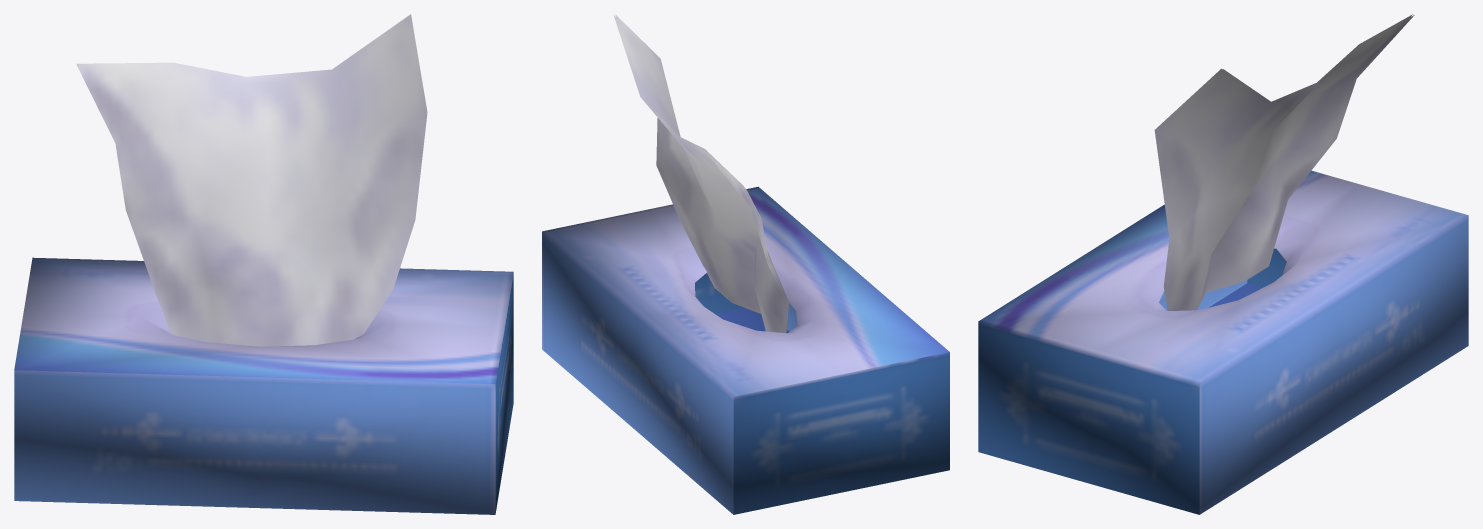
The model's file is XiuXiShi_01_chouzhi_01.FBX.
3 renders of one model, left to right at view 1: azimuth 30°, elevation 25°; view 2: azimuth 150°, elevation 25°; view 3: azimuth 270°, elevation 25°, orthographic. The views are drawn at different scales.
Parts seen in each view (by area): view 1: XiuXiShi_chouzhi; view 2: XiuXiShi_chouzhi; view 3: XiuXiShi_chouzhi.
Boxes of the visible parts, <box> form: XiuXiShi_chouzhi: <box>14,14,513,514</box>; XiuXiShi_chouzhi: <box>542,14,949,514</box>; XiuXiShi_chouzhi: <box>978,14,1468,514</box>.
Bounding box in the file's own units: 160 × 129 × 143.
